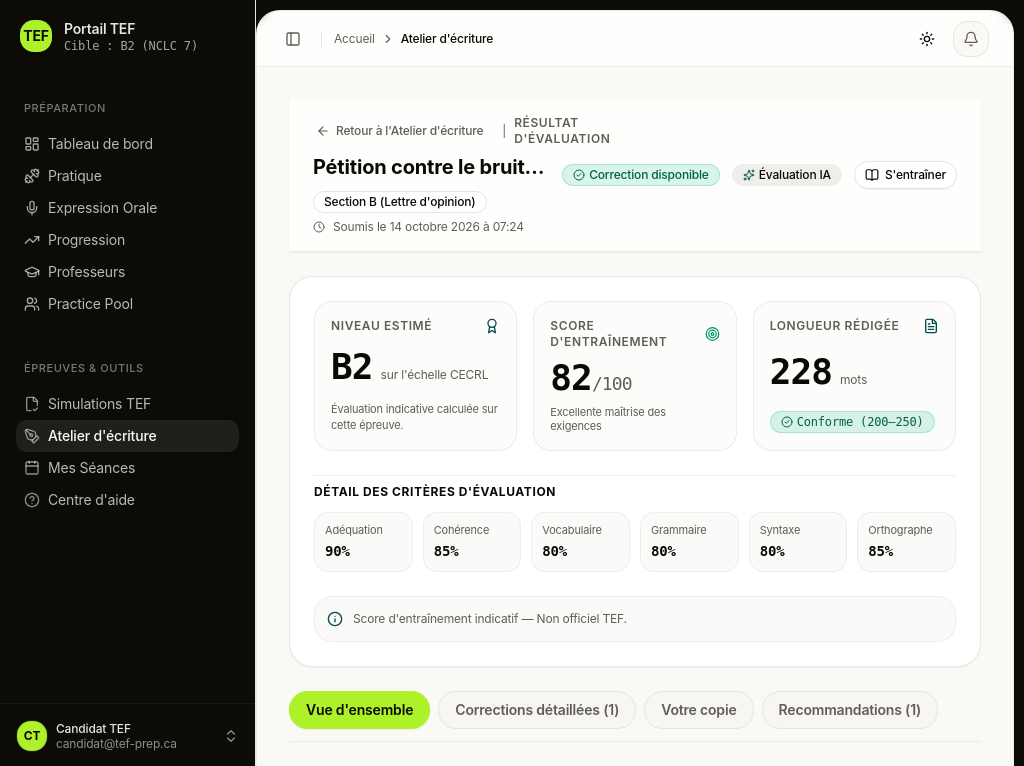
Test case: Student Writing Result & Correction Experience (/writing/:id/result) › 10. WritingResultPage Integration › loads completed result, renders summary, and switches tabs
expect the heading "Pétition contre le bruit nocturne" is shown: met, box left=313, top=153, right=546, bottom=181
expect the text "Section B (Lettre d'opinion)" is shown: met, box left=313, top=191, right=487, bottom=213
// Switch to "Corrections détaillées" tab
Click the button "Corrections détaillées (1)" at (537, 710), box left=438, top=691, right=636, bottom=729
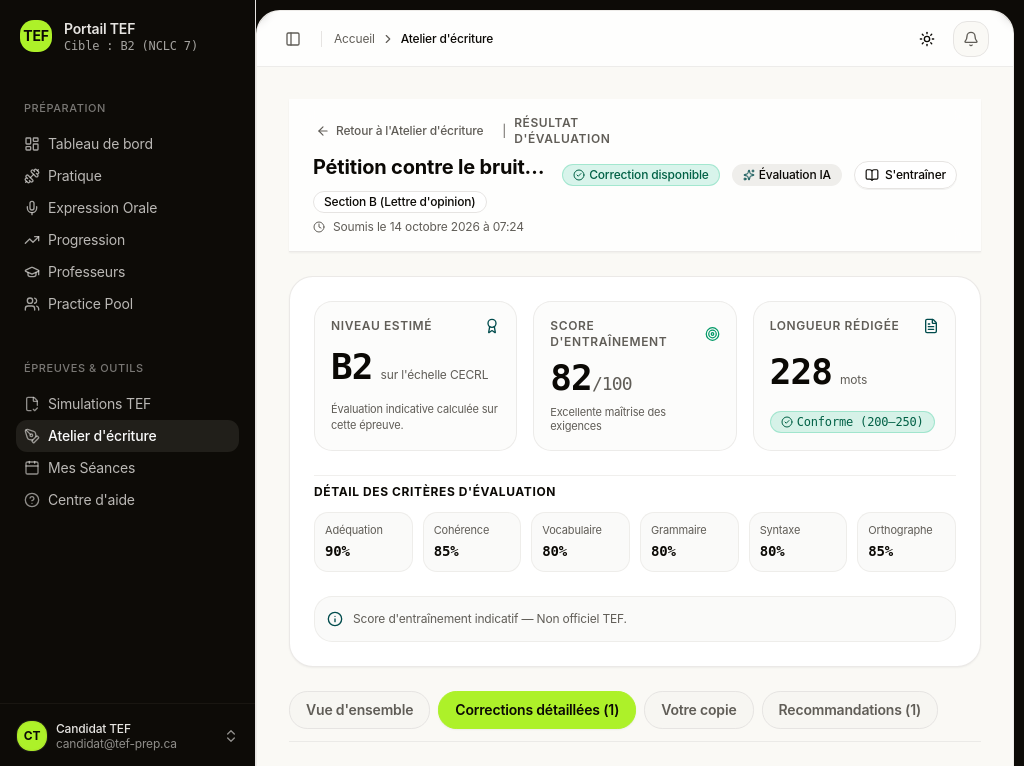
// Switch to "Votre copie" tab
Click the button "Votre copie" at (699, 710), box left=644, top=691, right=754, bottom=729
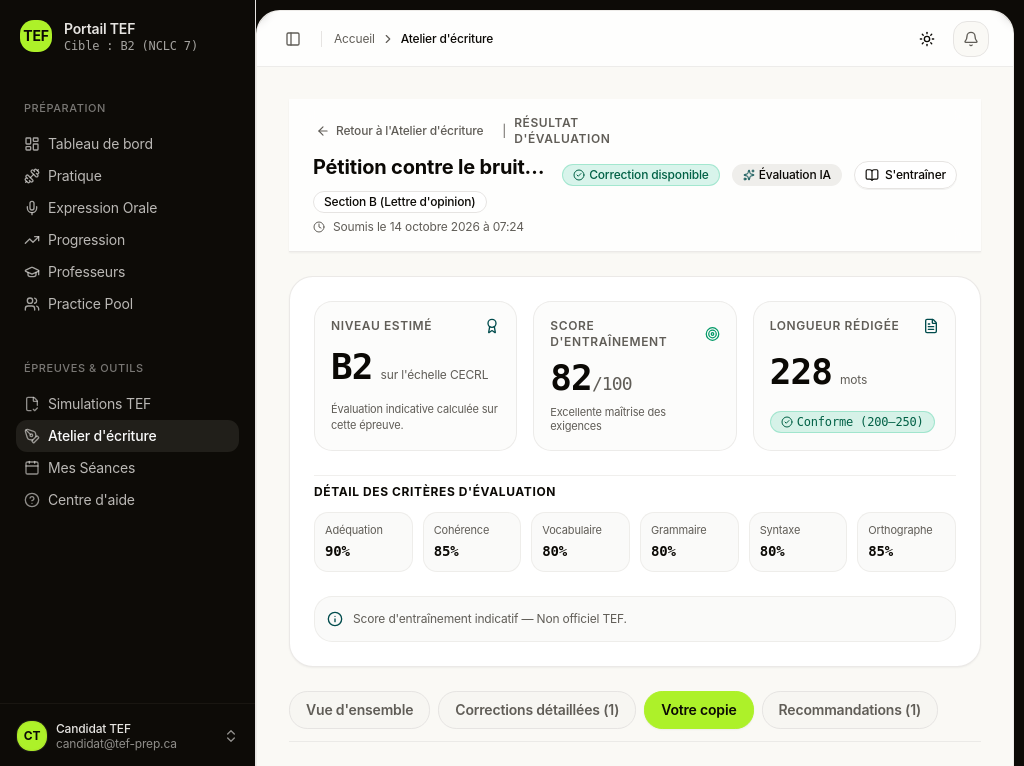
// Switch to "Recommandations" tab
Click the button "Recommandations (1)" at (850, 710), box left=762, top=691, right=938, bottom=729
(page scrolled)
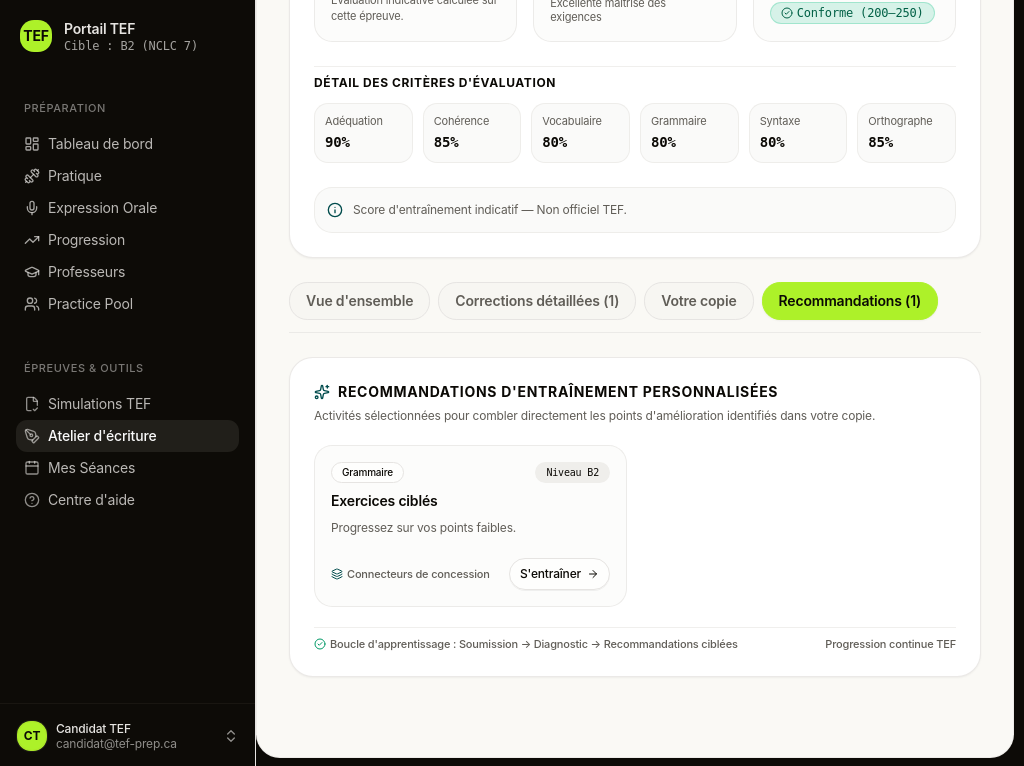
expect the heading "Exercices ciblés" is shown: met, box left=331, top=492, right=438, bottom=509
